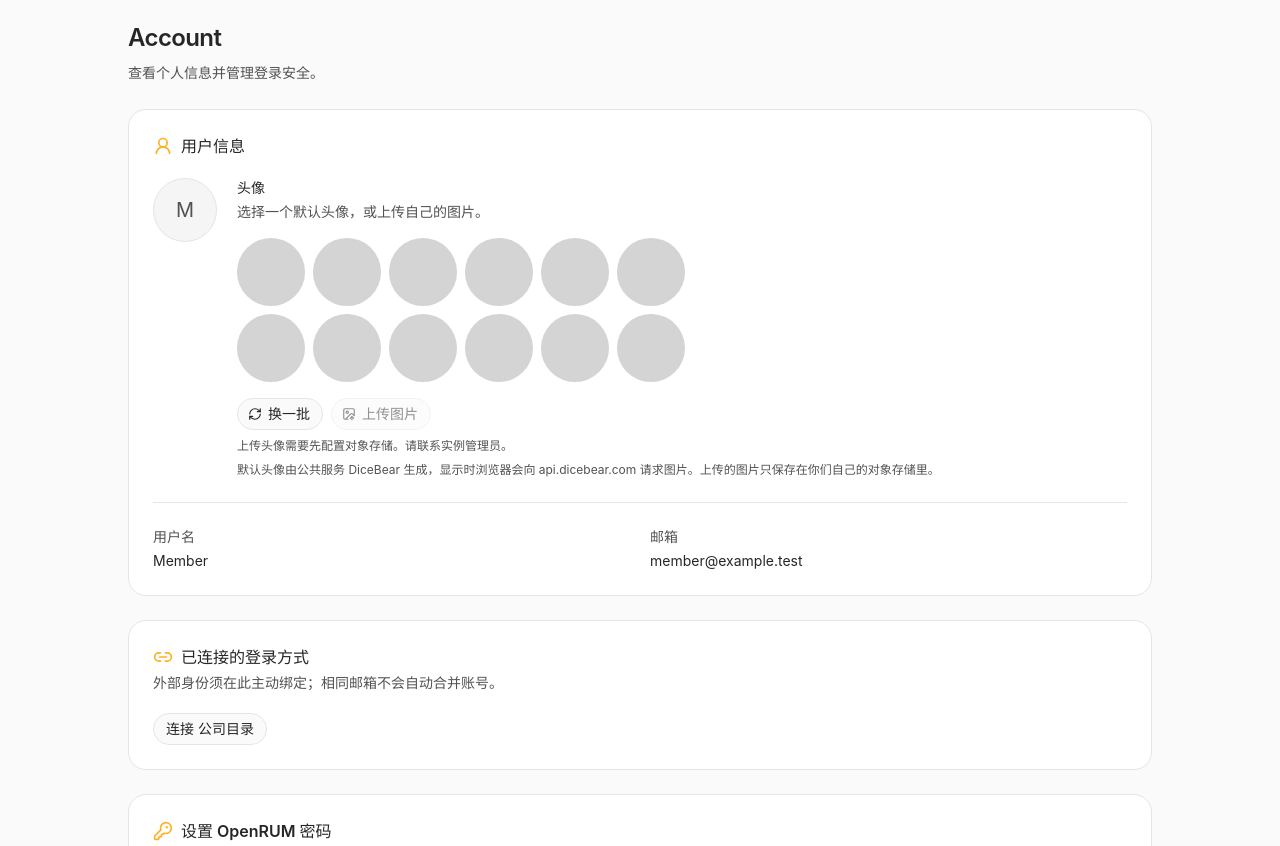
Test: links an LDAP identity explicitly and enrolls a separate OpenRUM password
Step 1. Click the button "连接 公司目录" → (210, 729), box [153, 713, 267, 745]
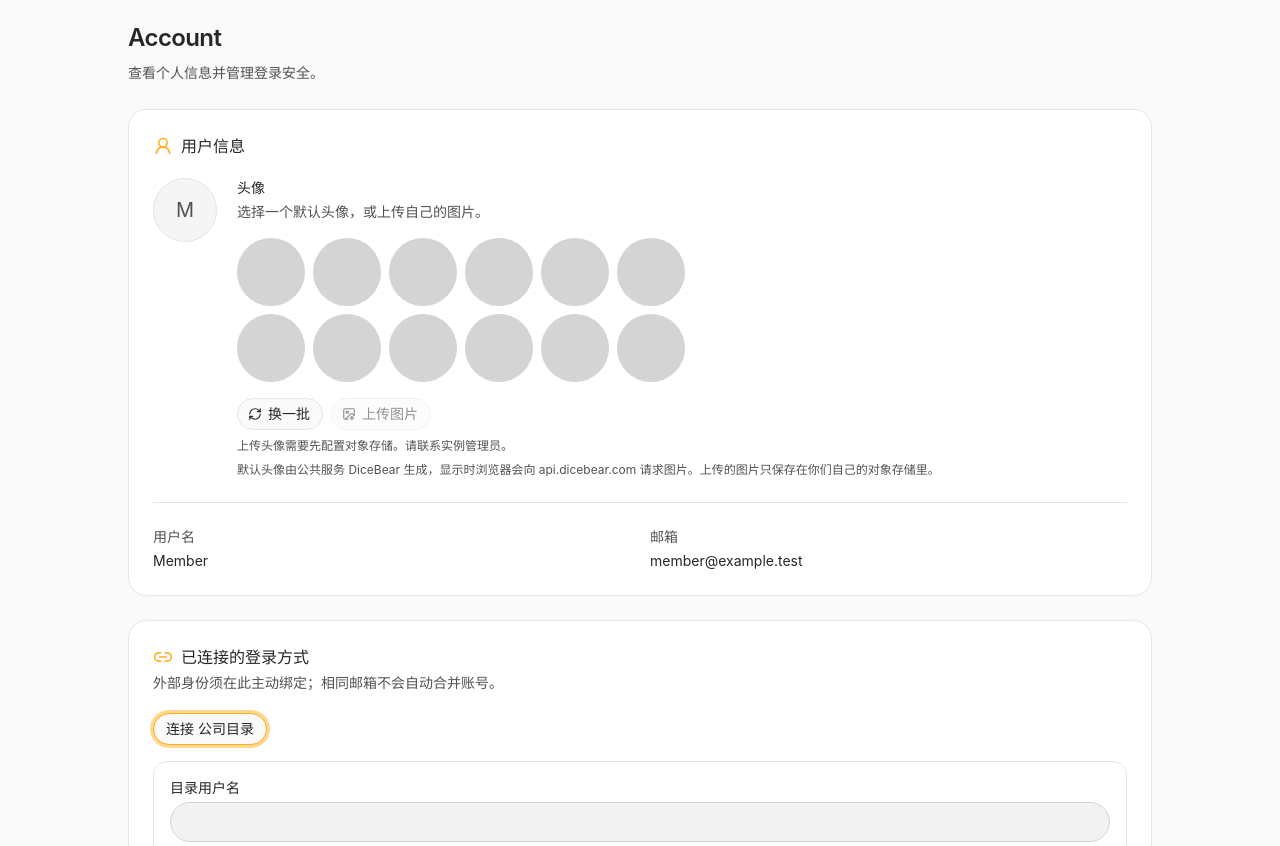
Step 2. Type "member" into the field labelled "目录用户名" → (640, 822), box [170, 802, 1110, 842]
(page scrolled)
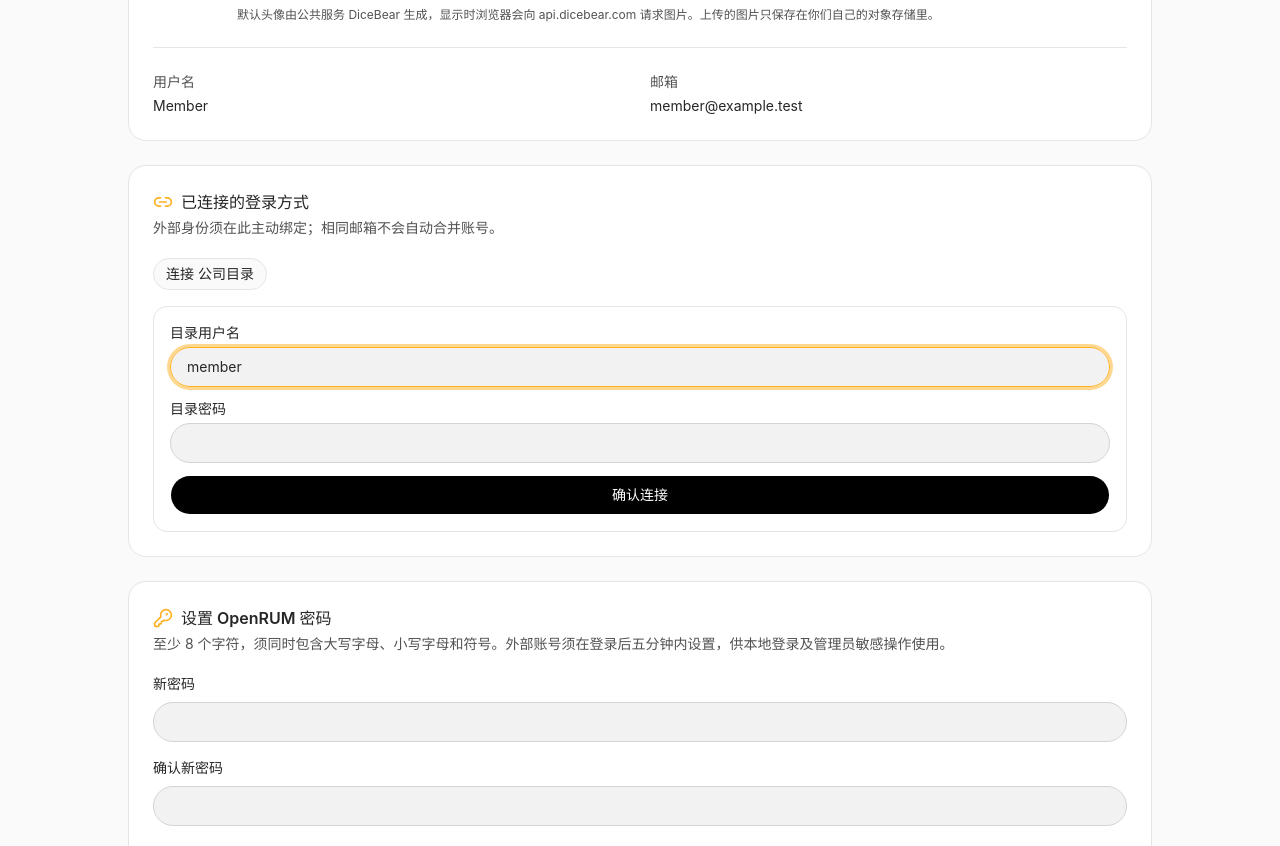
Step 3. Type "directory-password" into the password field labelled "目录密码" → (640, 443), box [170, 423, 1110, 463]
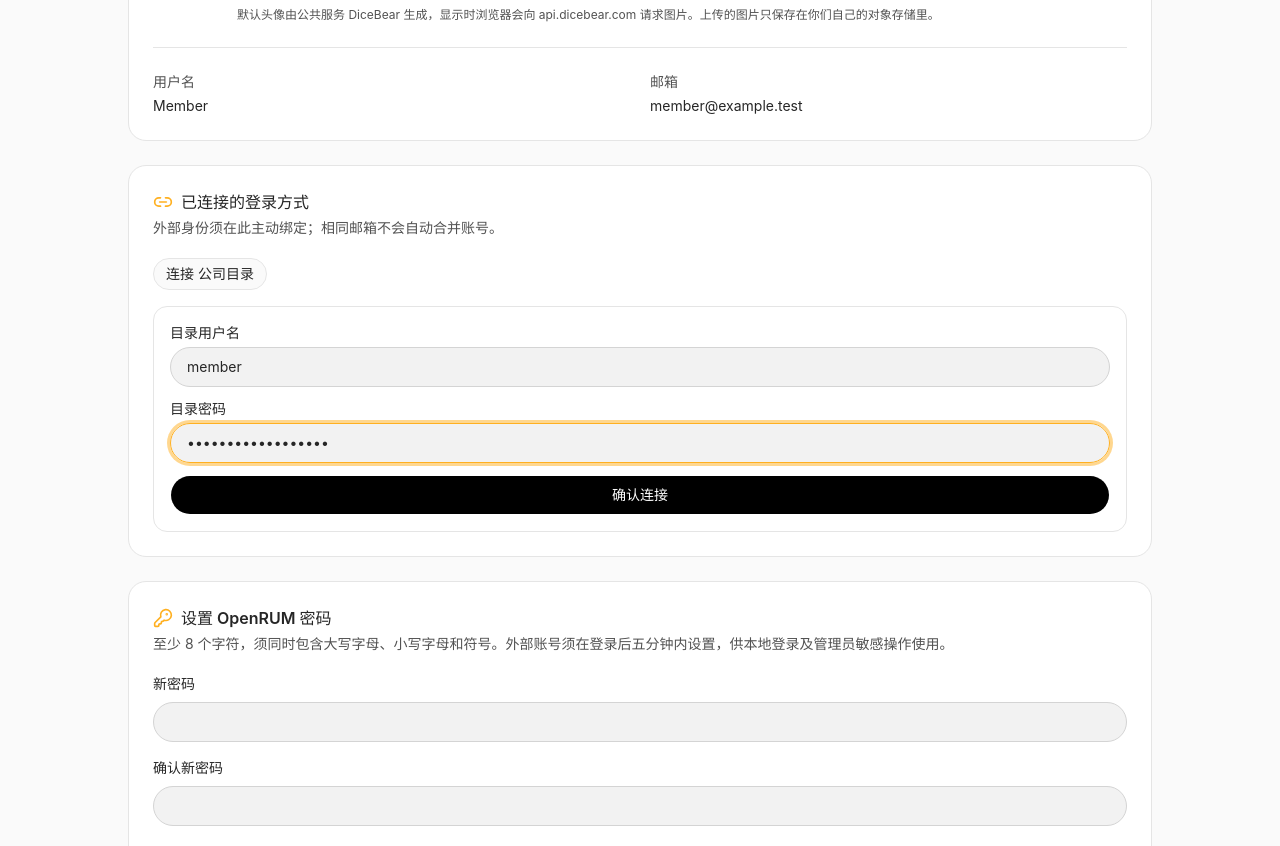
Step 4. Click the button "确认连接" → (640, 495), box [170, 475, 1110, 515]
(page scrolled)
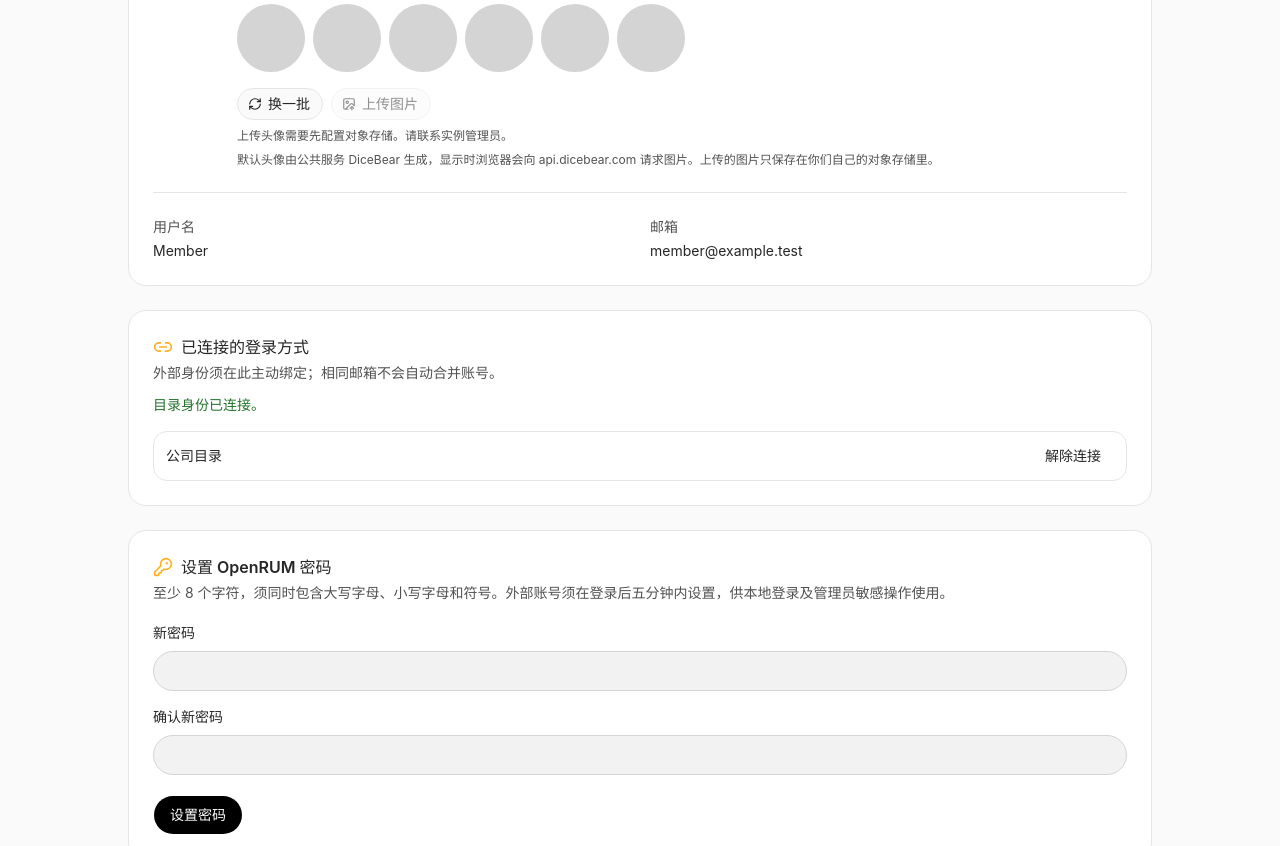
expect the text "目录身份已连接。" is shown: met, box [153, 396, 265, 413]
Step 5. Type "A-new-openrum-password" into the password field labelled "新密码" → (640, 671), box [153, 651, 1127, 691]
Step 6. Type "A-new-openrum-password" into the password field labelled "确认新密码" → (640, 755), box [153, 735, 1127, 775]
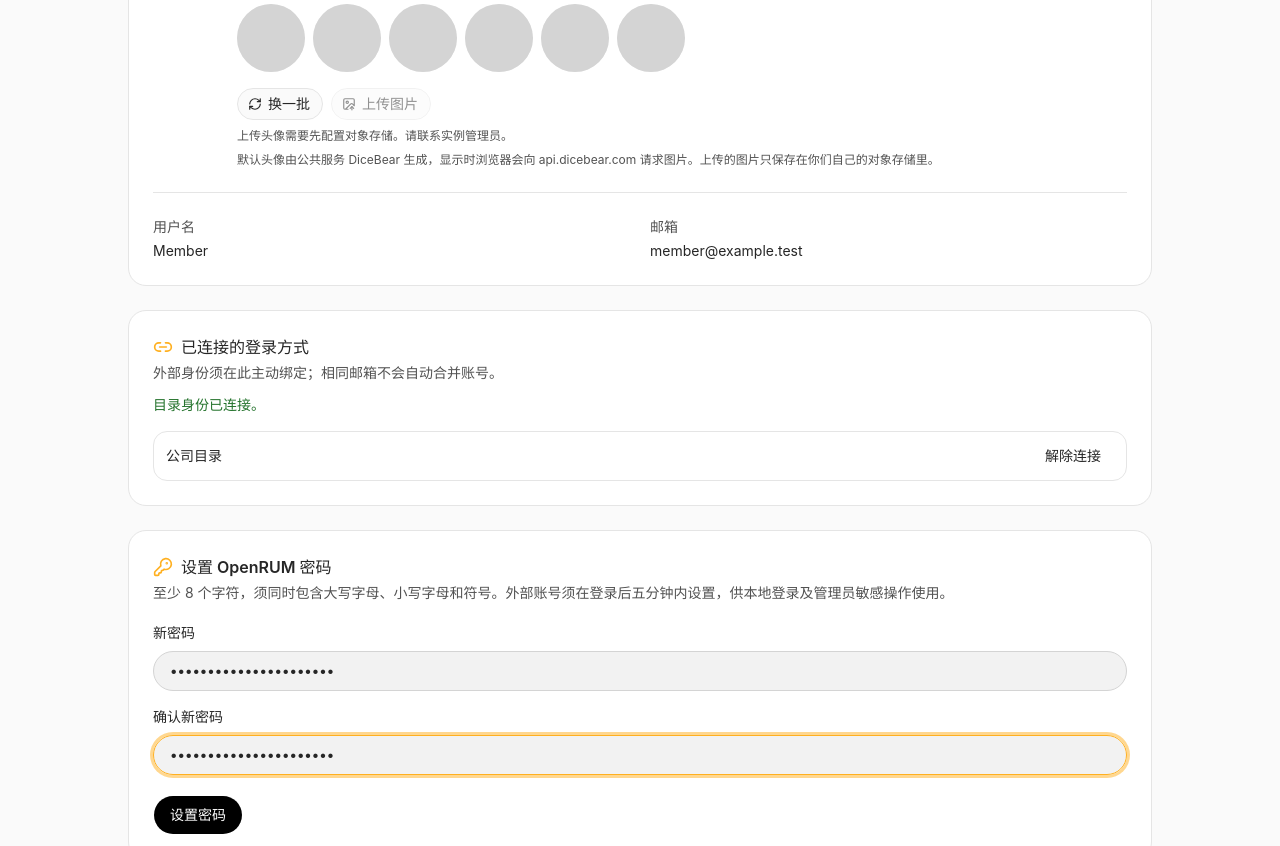
Step 7. Click the button "设置密码" → (198, 815), box [153, 795, 243, 835]
(page scrolled)
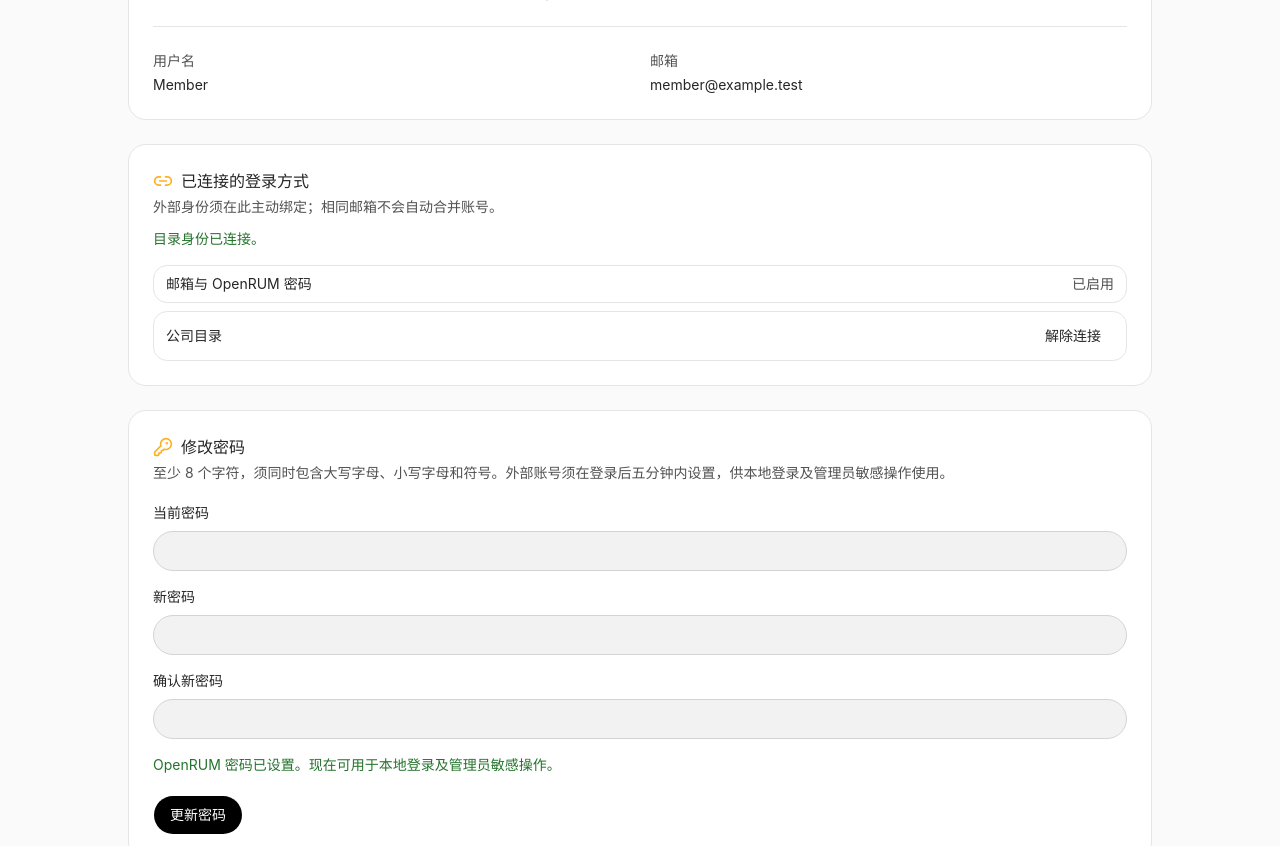
expect the text "OpenRUM 密码已设置。现在可用于本地登录及管理员敏感操作。" is shown: met, box [153, 756, 561, 773]
